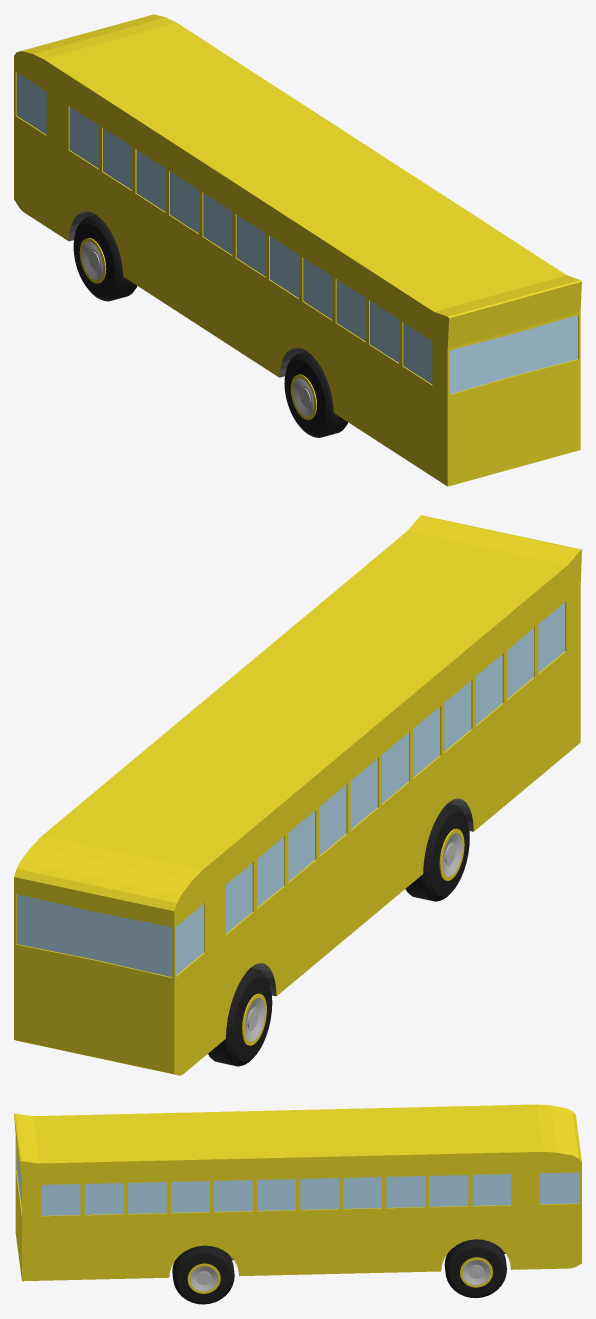
The model's file is bus1.fbx.
3 renders of one model, top to bottom at view 1: azimuth 30°, elevation 25°; view 2: azimuth 150°, elevation 25°; view 3: azimuth 270°, elevation 25°, orthographic. The views are drawn at different scales.
Visible parts, largest first — view 1: Buss1WithWheels; view 2: Buss1WithWheels; view 3: Buss1WithWheels.
Boxes of the visible parts, x1=… form: Buss1WithWheels: x1=14, y1=14, x2=581, y2=486; Buss1WithWheels: x1=14, y1=515, x2=581, y2=1075; Buss1WithWheels: x1=14, y1=1104, x2=581, y2=1304.
Bounding box in the file's own units: 331 × 381 × 1316.
